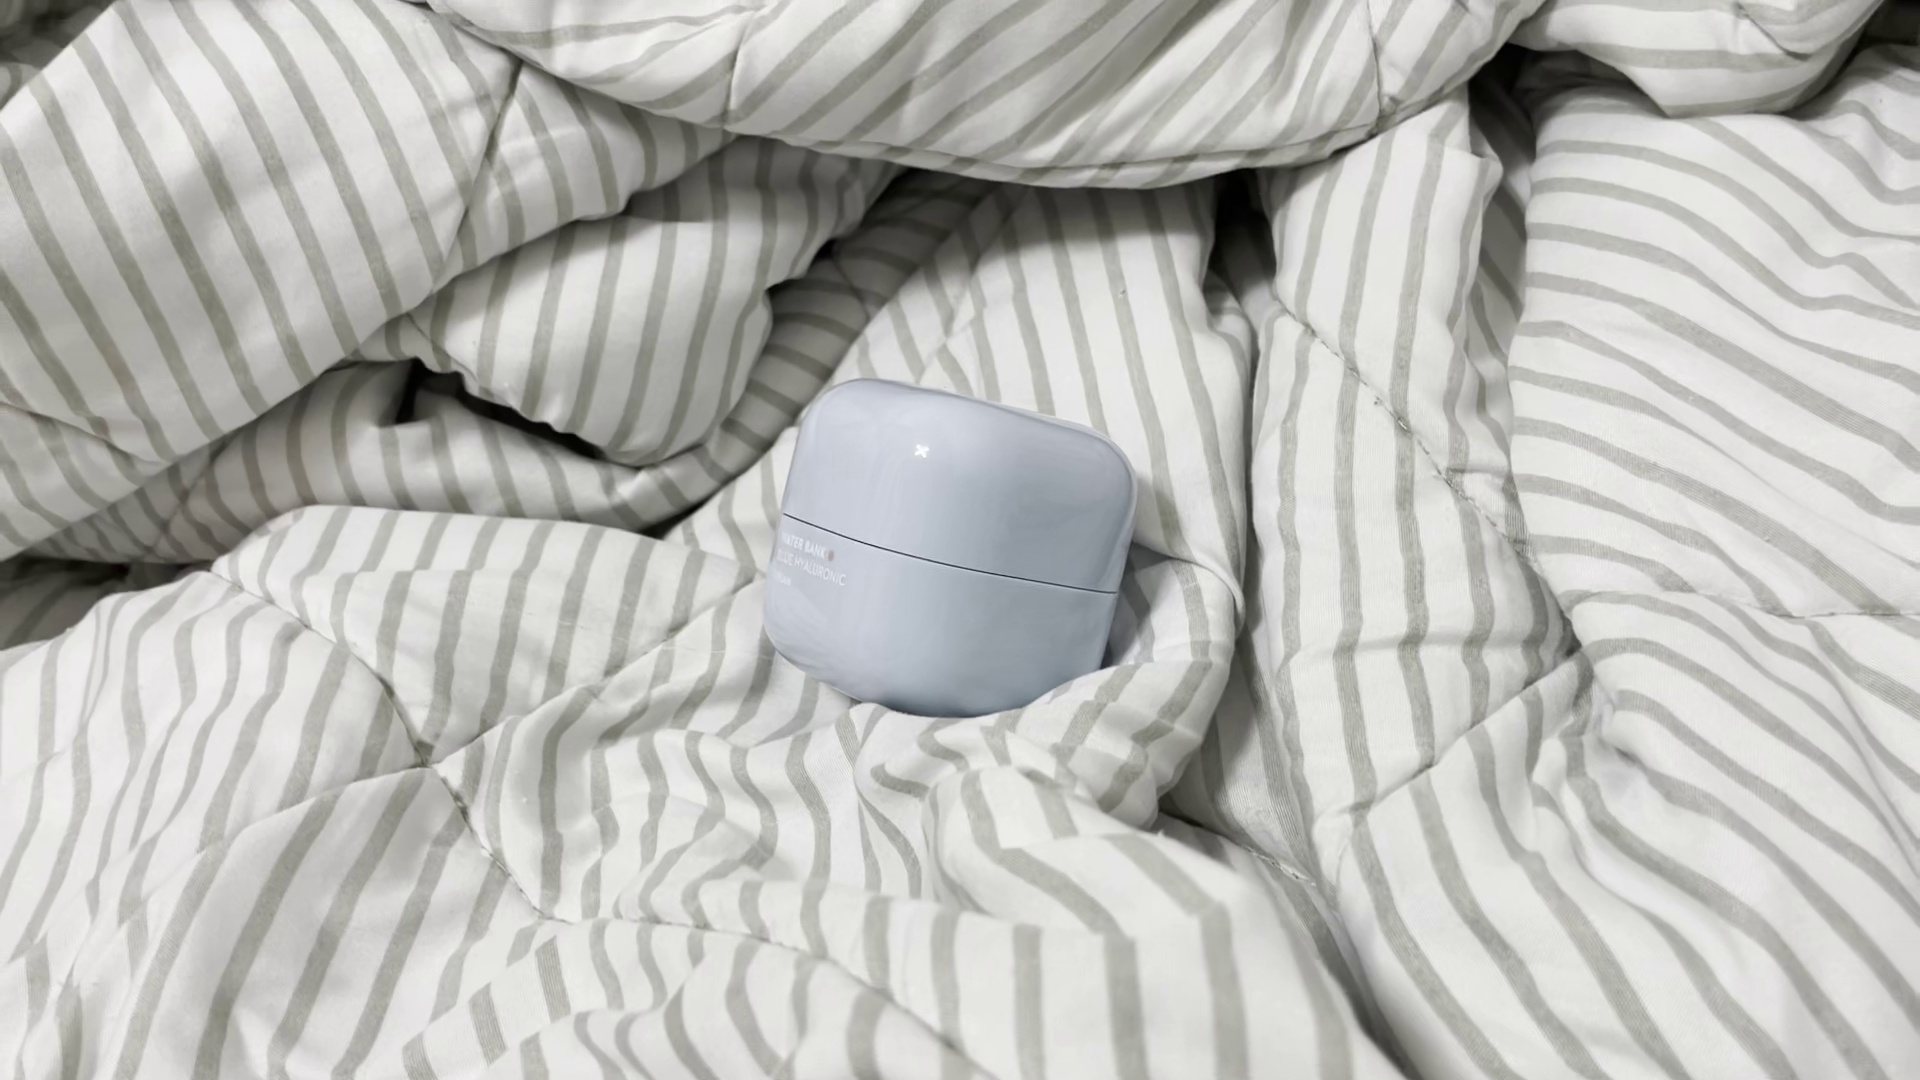cream: (765, 378, 1134, 719)
